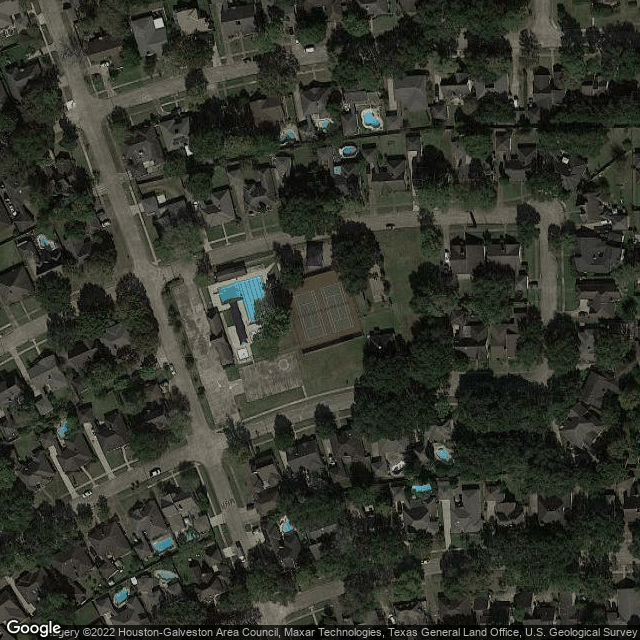Court: (291, 289, 329, 341), (319, 281, 355, 335)
